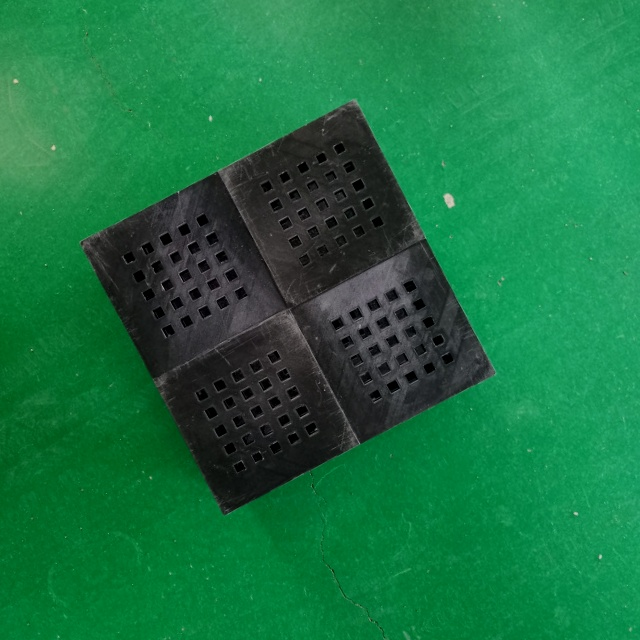pallet: (69, 86, 503, 535)
